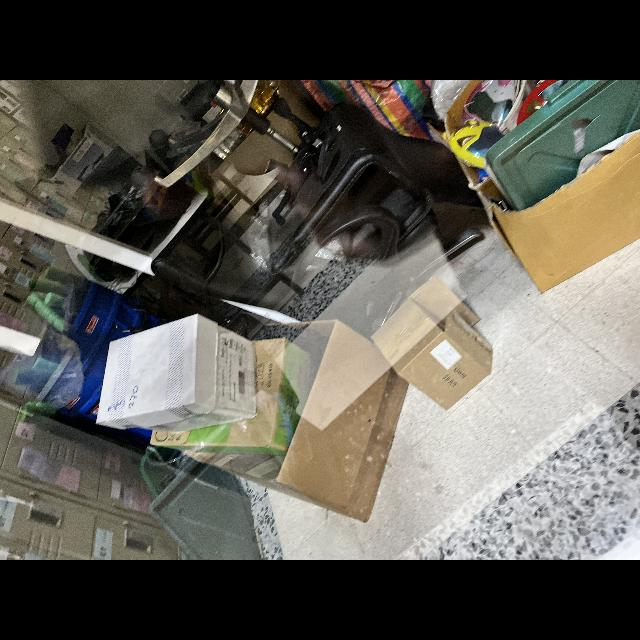cardboard_box: (190, 310, 416, 518), (492, 132, 640, 286), (100, 316, 262, 446), (370, 283, 496, 411)
